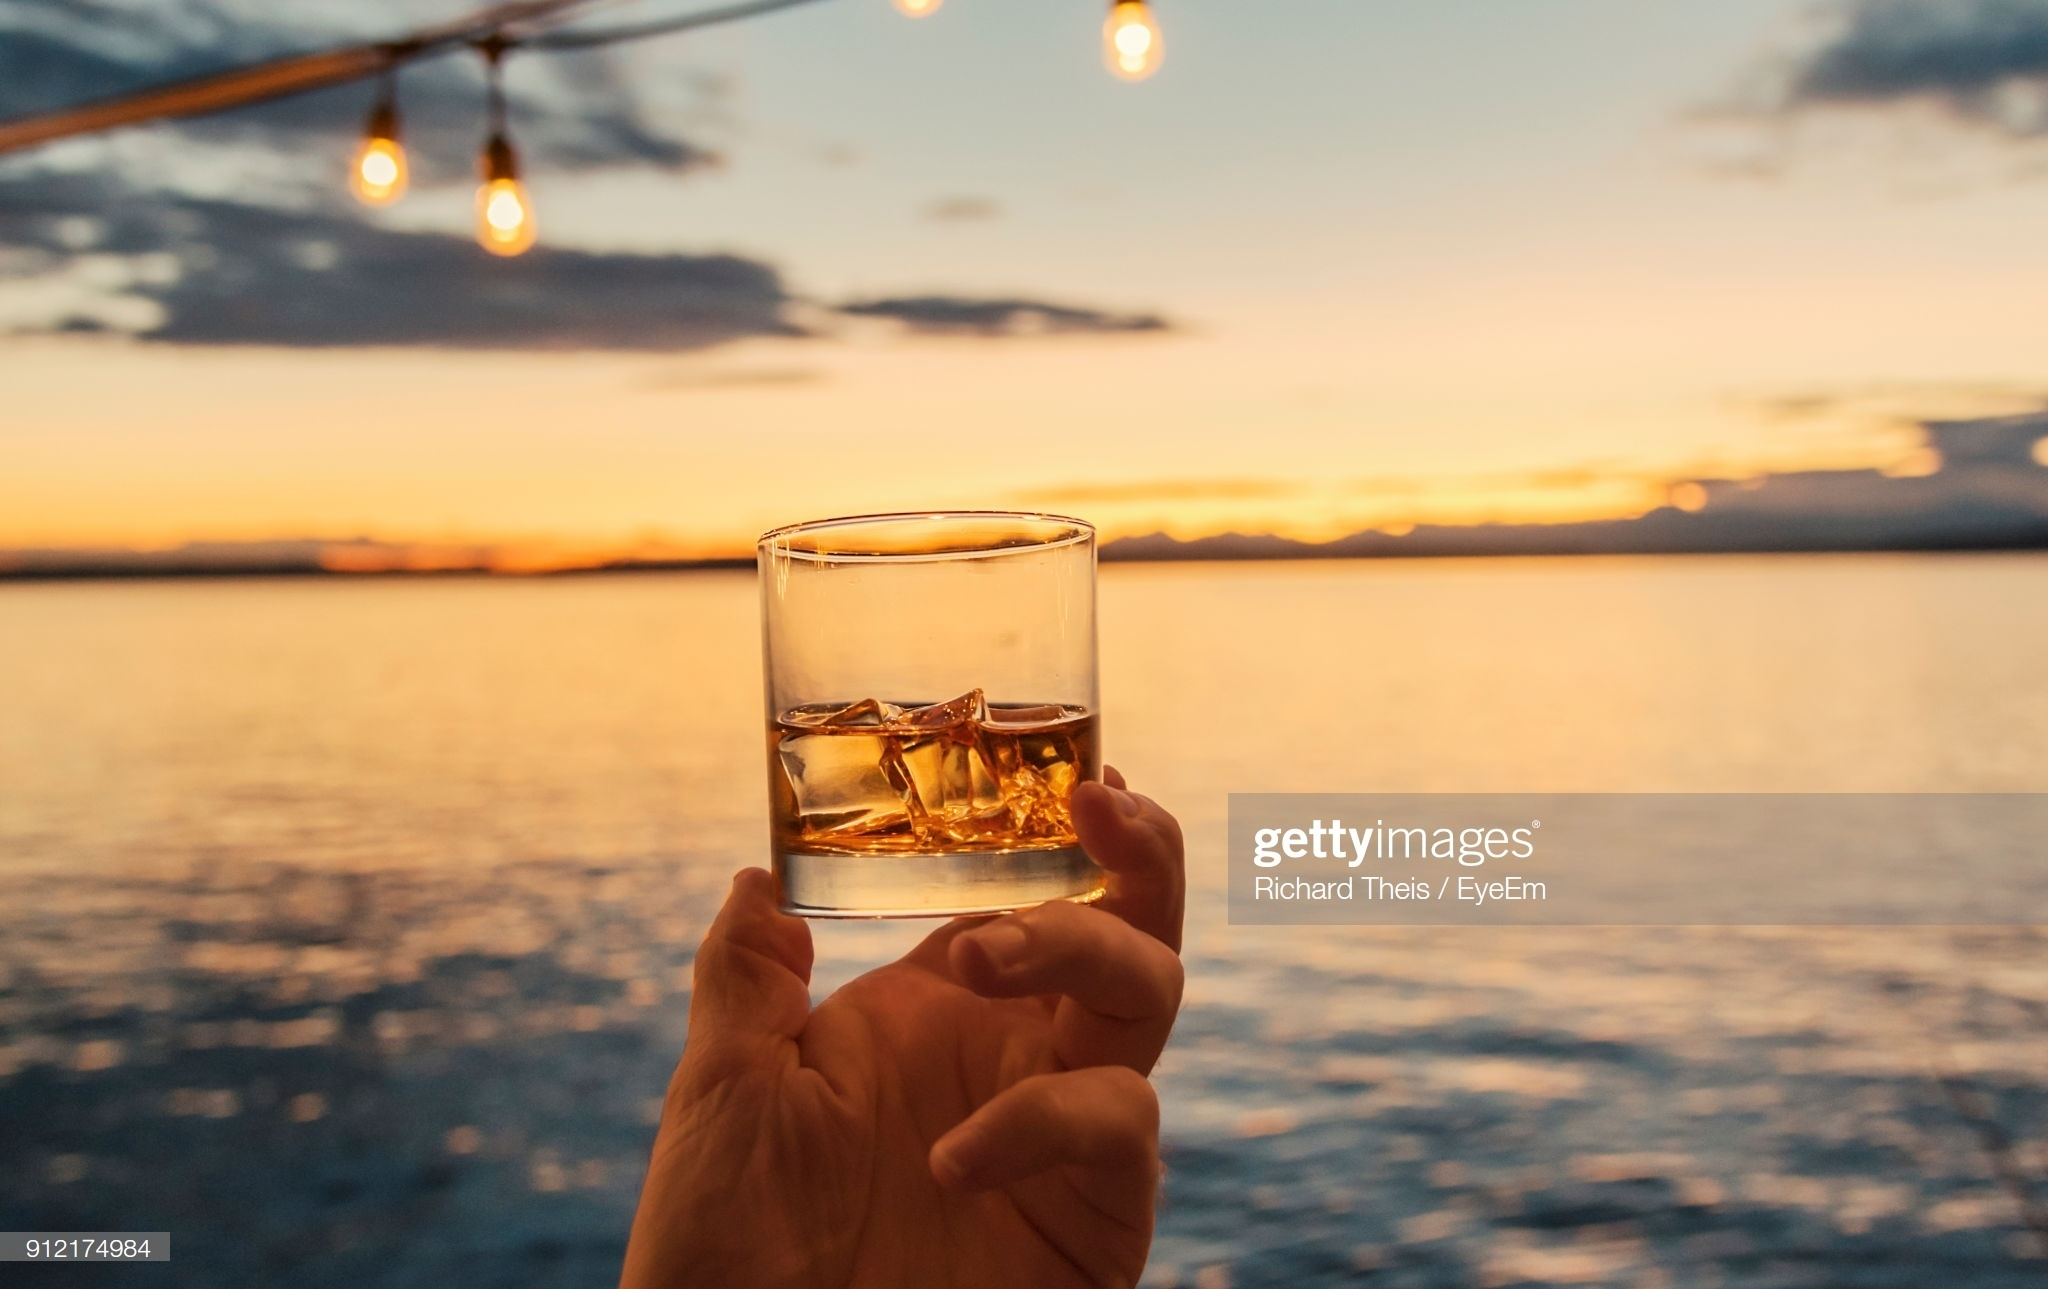whiskey: (765, 502, 1109, 921)
